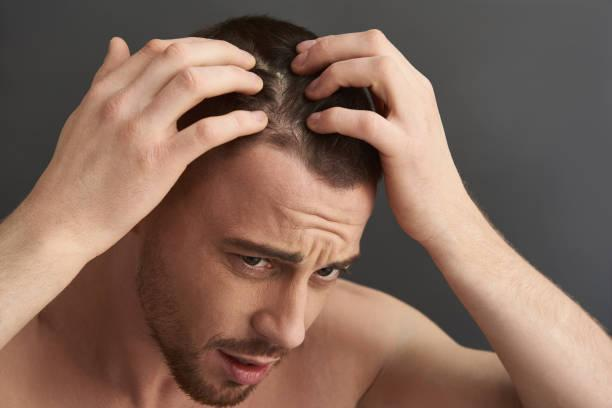low hair density: (271, 74, 299, 146)
